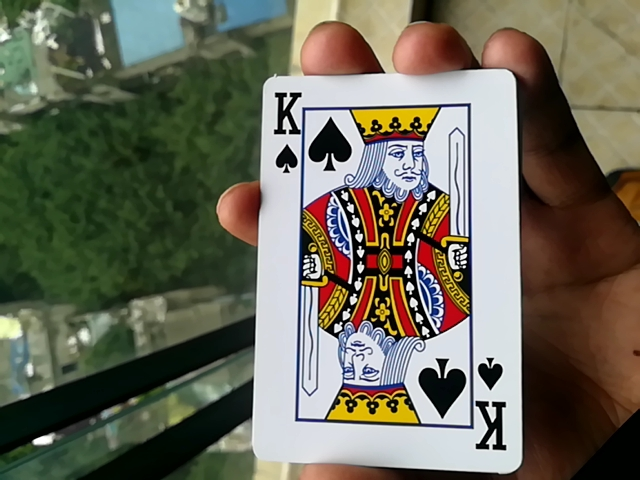ht k: (243, 73, 515, 471)
